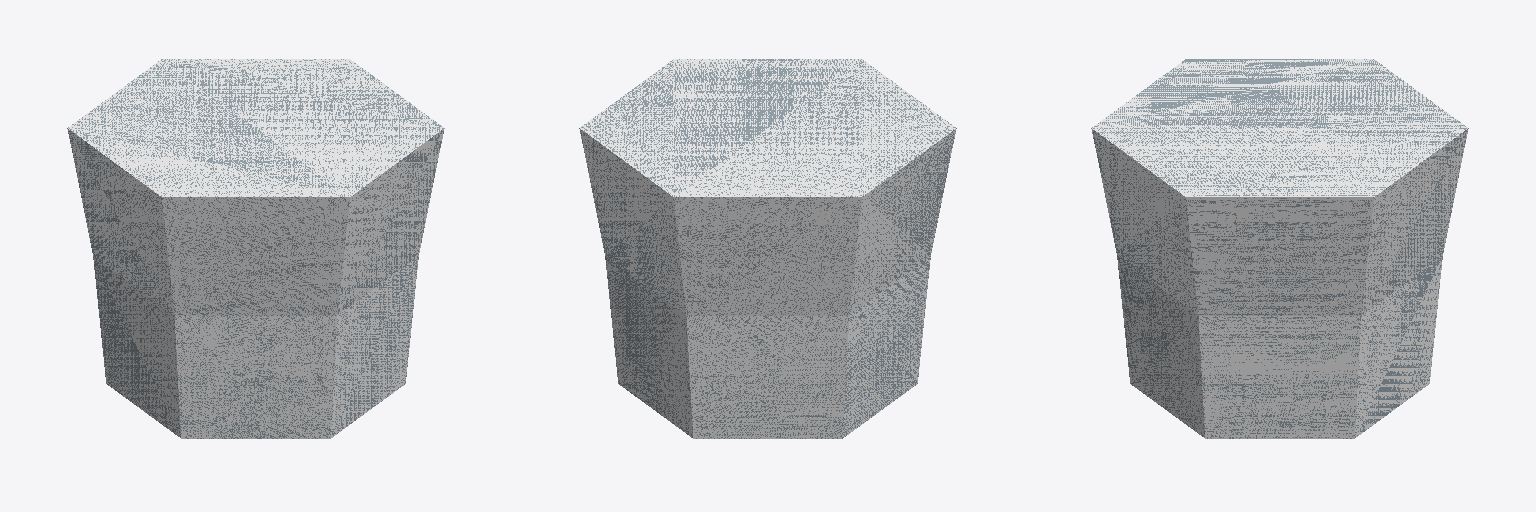
Rendered from Stopper_Highlight.obj.
The picture shows the model from 3 angles: view 1: azimuth 30°, elevation 25°; view 2: azimuth 150°, elevation 25°; view 3: azimuth 270°, elevation 25°; orthographic projection.
Parts seen in each view (by area): view 1: Mesh1 Model; view 2: Mesh1 Model; view 3: Mesh1 Model.
Boxes of the visible parts, x1,y1,x2,y2 form: Mesh1 Model: [67, 59, 444, 438]; Mesh1 Model: [579, 59, 956, 438]; Mesh1 Model: [1091, 59, 1468, 438].
Size of the model in its own units: 0.027 by 0.0233 by 0.0312.